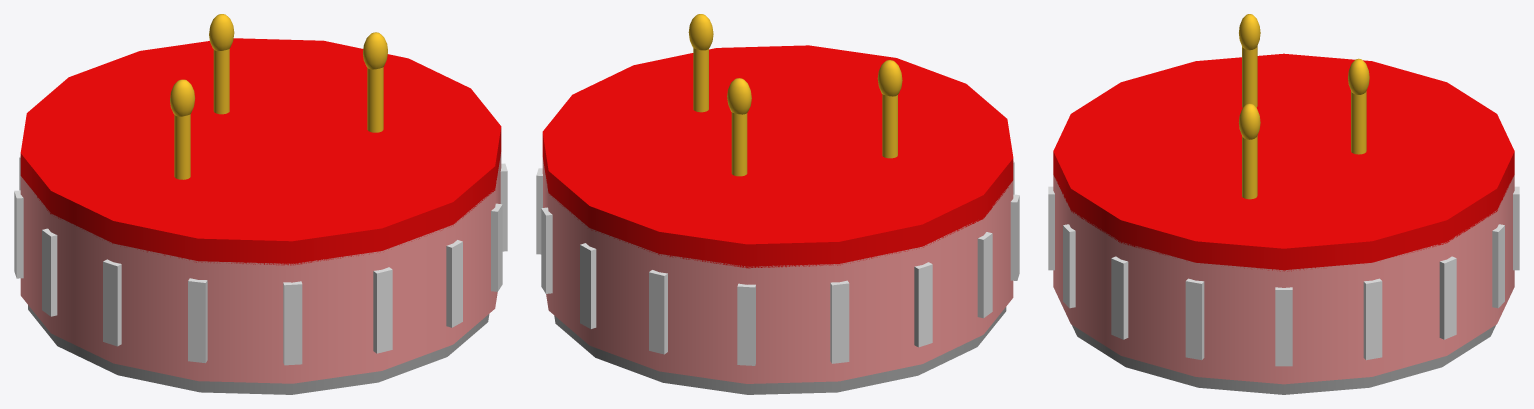
Rendered from CMU3DBakedCakeBirthday.glb.
The picture shows the model from 3 angles, left to right: view 1: azimuth 30°, elevation 25°; view 2: azimuth 150°, elevation 25°; view 3: azimuth 270°, elevation 25°; orthographic projection. The views are drawn at different scales.
Visible parts, largest first — view 1: red icing crown, white icing side, whole cake crumb body, pink piped side stripe 12, pink piped side stripe 11, pink piped side stripe 13, pink piped side stripe 10, pink piped side stripe 14, pink piped side stripe 9, birthday candle 1 wax, birthday candle 3 wax, birthday candle 2 wax (+6 smaller); view 2: red icing crown, white icing side, whole cake crumb body, pink piped side stripe 7, pink piped side stripe 6, pink piped side stripe 8, pink piped side stripe 5, pink piped side stripe 4, pink piped side stripe 9, birthday candle 2 wax, birthday candle 1 wax, birthday candle 3 wax (+6 smaller); view 3: red icing crown, white icing side, whole cake crumb body, pink piped side stripe 2, pink piped side stripe 16, pink piped side stripe 1, pink piped side stripe 3, pink piped side stripe 15, pink piped side stripe 4, pink piped side stripe 14, birthday candle 3 wax, birthday candle 2 wax (+6 smaller).
Boxes of the visible parts, x1,y1,x2,y2 form: red icing crown: (20, 38, 501, 265); white icing side: (20, 152, 501, 383); whole cake crumb body: (28, 305, 489, 394); pink piped side stripe 12: (283, 281, 302, 365); pink piped side stripe 11: (188, 278, 207, 363); pink piped side stripe 13: (373, 267, 392, 353); pink piped side stripe 10: (103, 259, 121, 346); pink piped side stripe 14: (446, 240, 462, 327); pink piped side stripe 9: (42, 228, 57, 316); birthday candle 1 wax: (174, 114, 190, 179); birthday candle 3 wax: (367, 67, 383, 132); birthday candle 2 wax: (213, 49, 229, 114); red icing crown: (542, 45, 1013, 268); white icing side: (542, 157, 1013, 383); whole cake crumb body: (554, 307, 1006, 394); pink piped side stripe 7: (830, 280, 849, 363); pink piped side stripe 6: (737, 283, 755, 365); pink piped side stripe 8: (914, 262, 932, 347); pink piped side stripe 5: (649, 270, 667, 354); pink piped side stripe 4: (580, 243, 596, 328); pink piped side stripe 9: (977, 232, 992, 318); birthday candle 2 wax: (731, 112, 747, 176); birthday candle 1 wax: (882, 94, 897, 158); birthday candle 3 wax: (693, 48, 708, 112); red icing crown: (1053, 53, 1514, 271); white icing side: (1053, 175, 1514, 384); whole cake crumb body: (1072, 325, 1495, 394); pink piped side stripe 2: (1363, 278, 1382, 360); pink piped side stripe 16: (1185, 278, 1204, 360); pink piped side stripe 1: (1275, 287, 1292, 366); pink piped side stripe 3: (1439, 256, 1456, 339); pink piped side stripe 15: (1111, 256, 1128, 339); pink piped side stripe 4: (1492, 224, 1504, 308); pink piped side stripe 14: (1063, 224, 1075, 308); birthday candle 3 wax: (1242, 135, 1257, 199); birthday candle 2 wax: (1351, 91, 1366, 154).
Bounding box in the file's own units: 0.756 × 0.4265 × 0.756.
